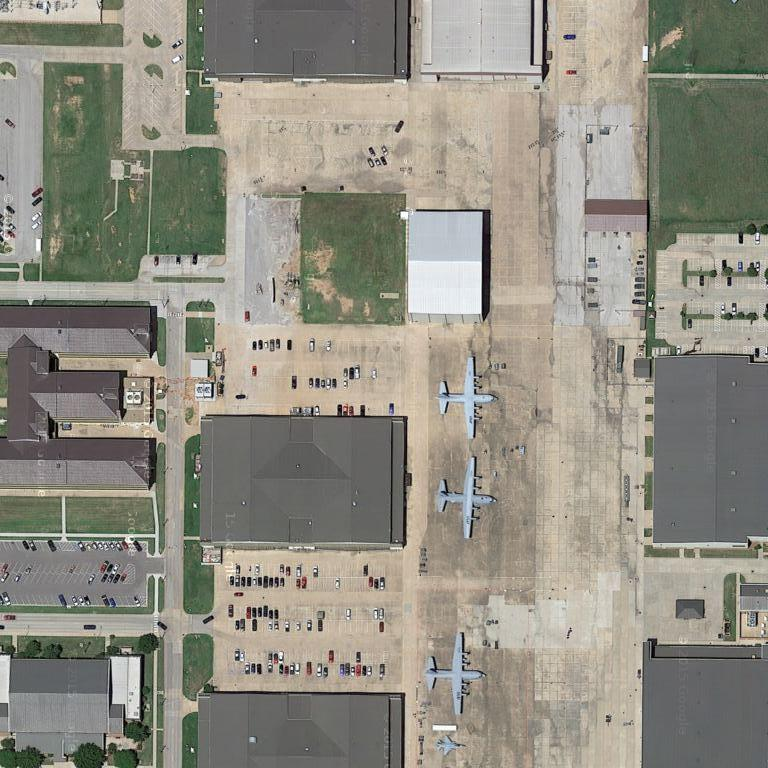C-130: (434, 350, 498, 443), (433, 450, 497, 543), (424, 631, 485, 721)
F-16: (434, 731, 469, 759)
